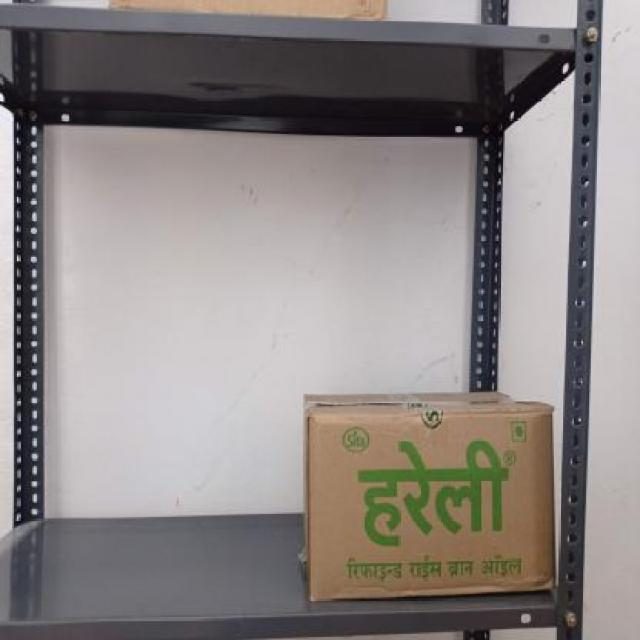box: (303, 414, 557, 591)
